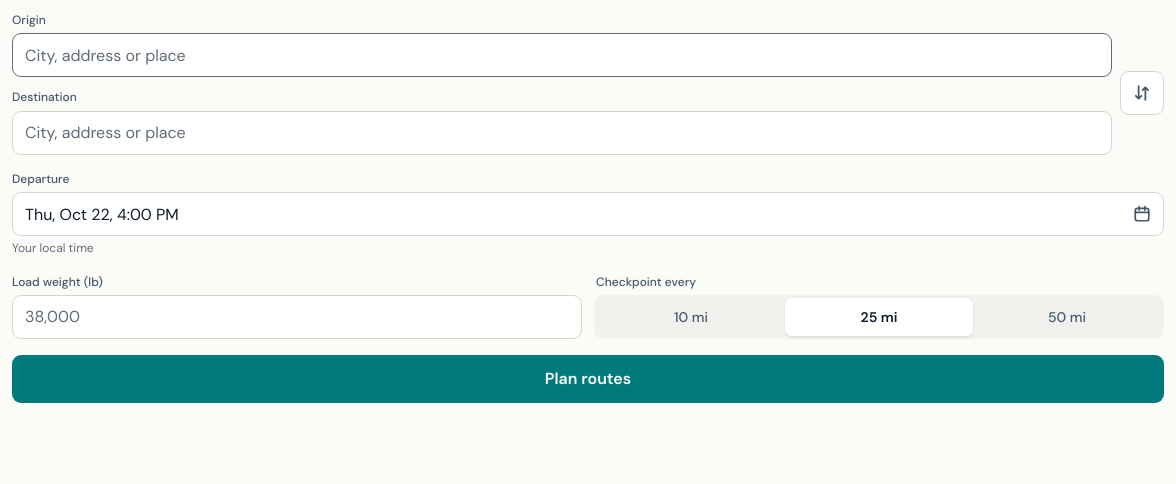
TripForm › clears a field's message as soon as it is edited
Click the button "Plan routes" at coordinates (588, 379), box [12,355,1164,403]
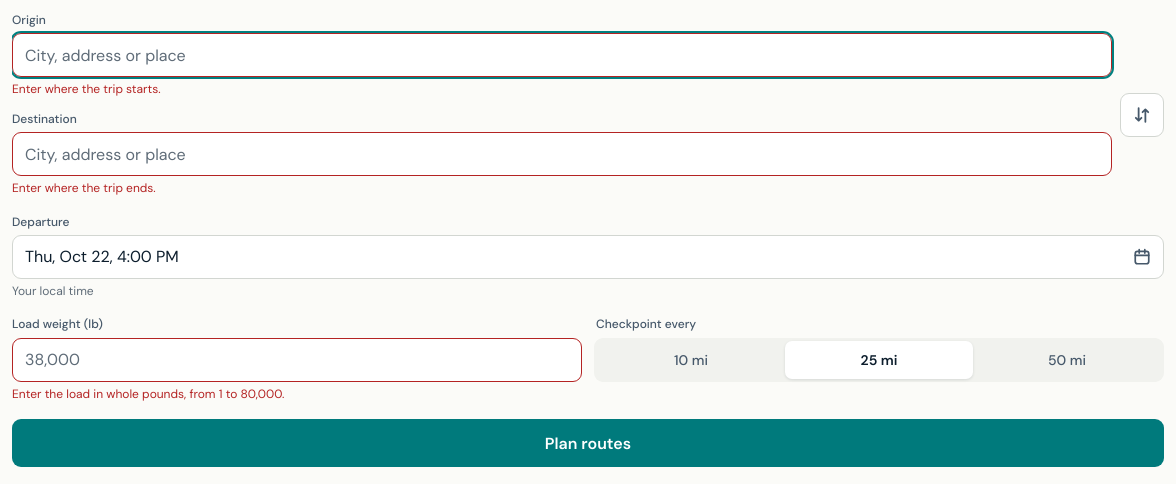
Type "4" into the field labelled "Load weight (lb)" at coordinates (297, 360), box [12,338,582,382]
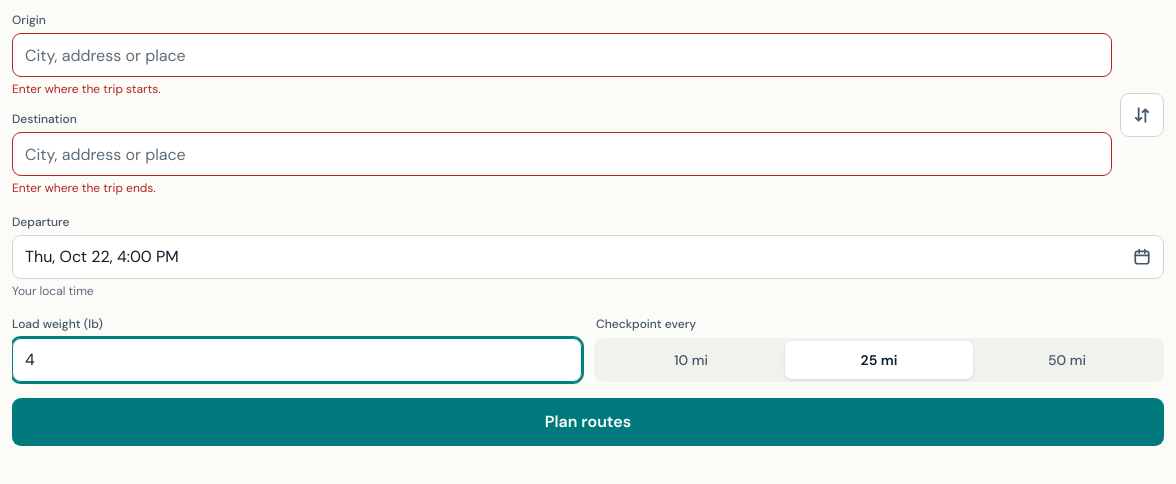
Expected: the text "Enter where the trip starts." is shown, [12,81,161,97]
Expected: the text "whole pounds" is gone
